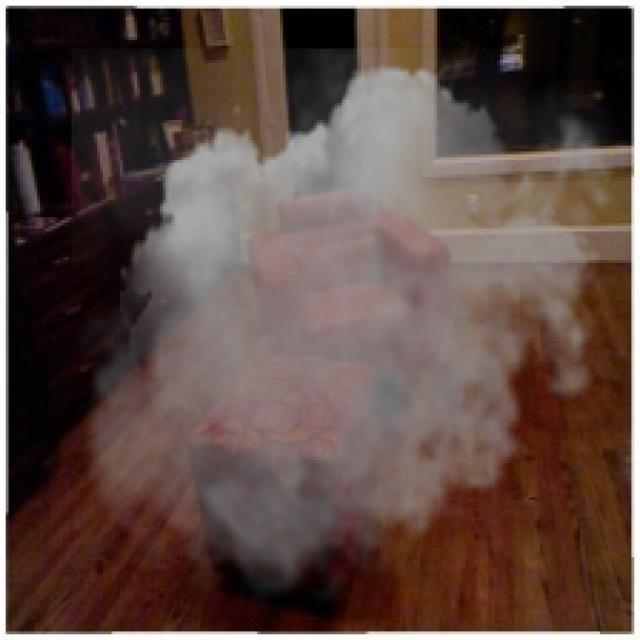Smoke: (71, 48, 632, 618)
